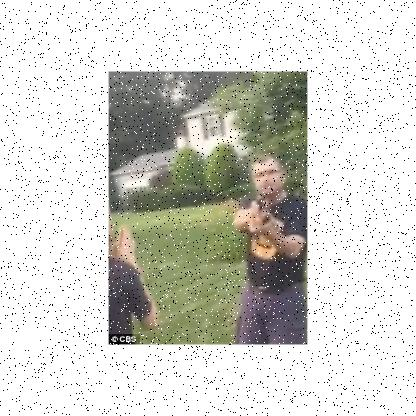gun: (250, 194, 268, 234)
